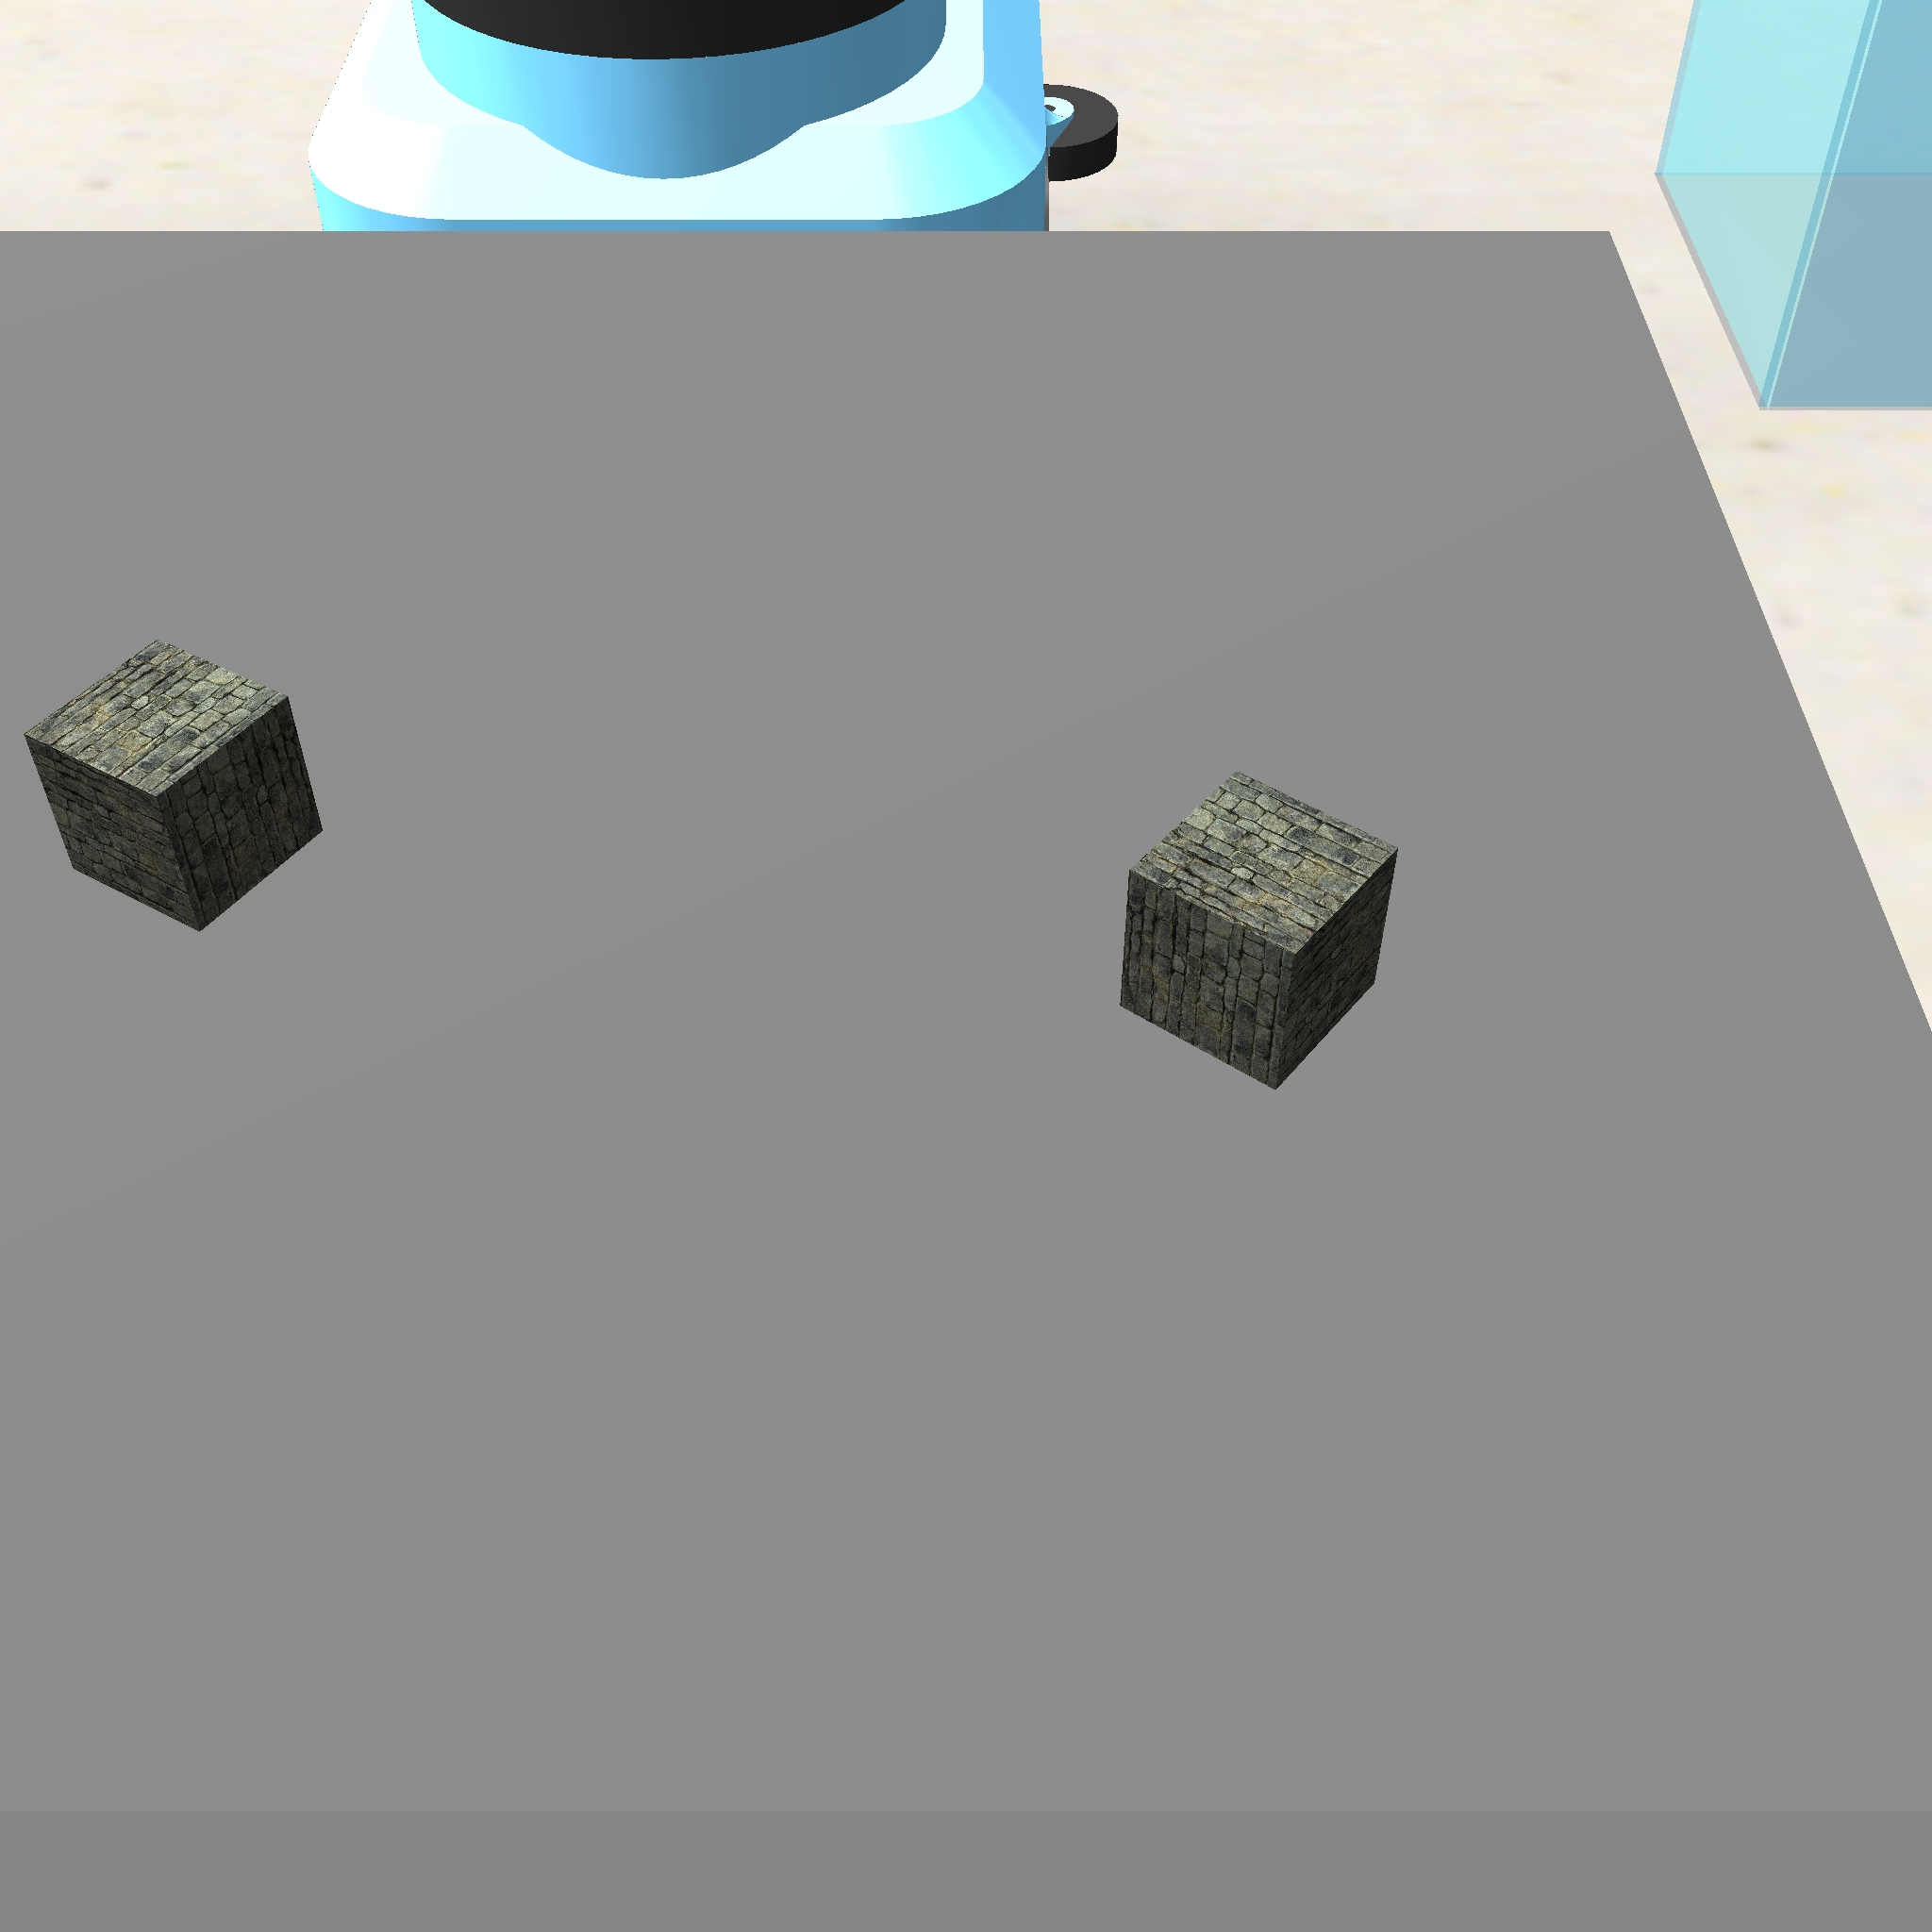cube: (1111, 763, 1405, 1102), (14, 630, 334, 939)
